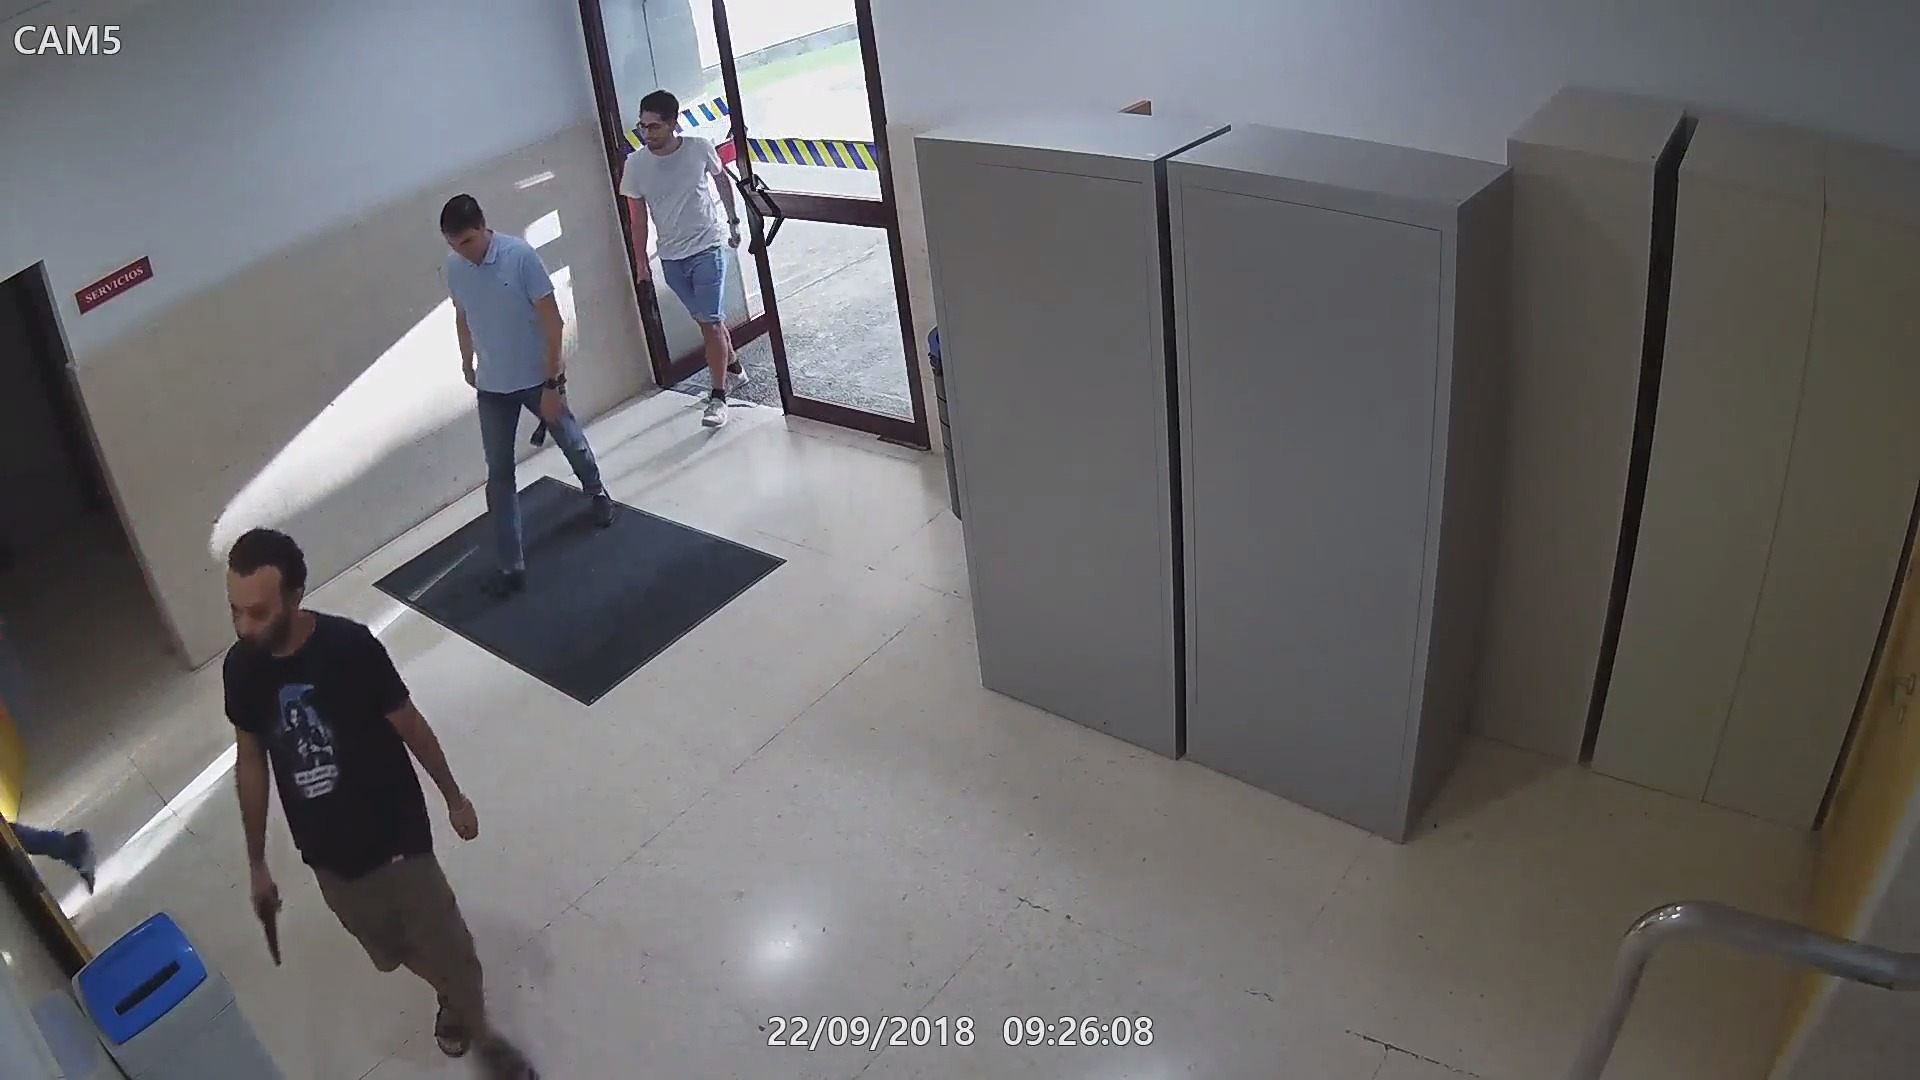pistol: (247, 861, 285, 968)
rifle: (633, 261, 673, 357)
